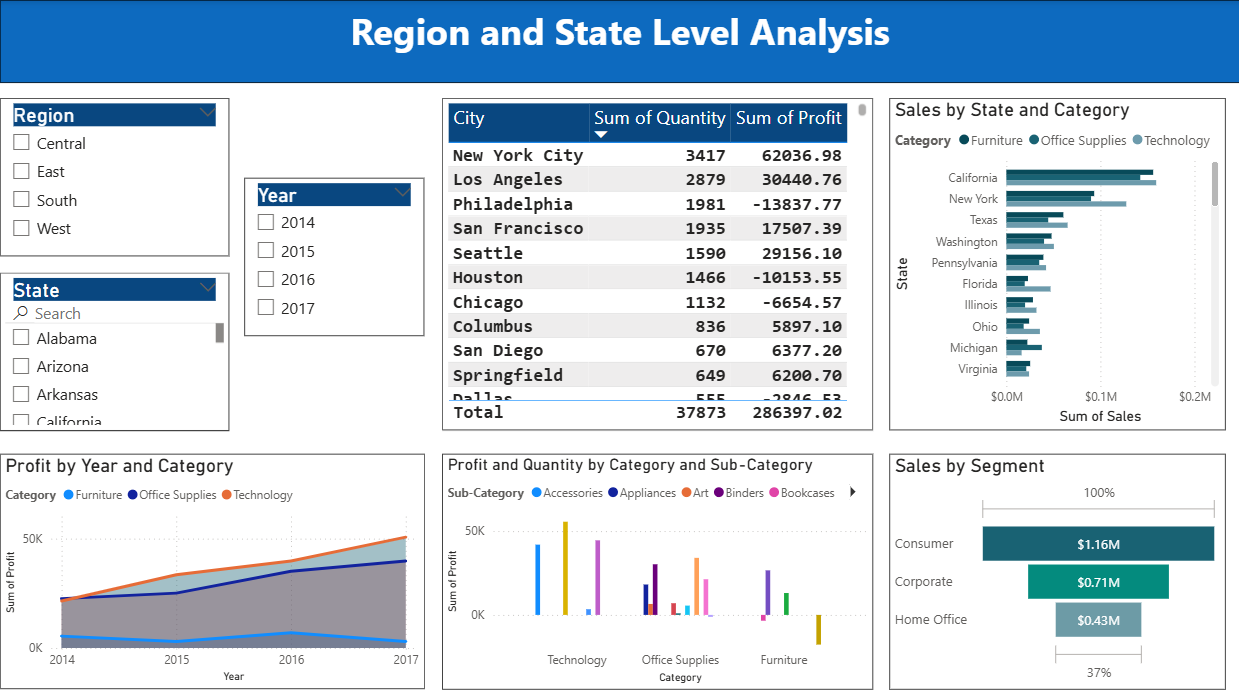

This screenshot's page, from the dashboard's own definition file:
{"tool":"powerbi","page":{"name":"Region and State","canvas":[1280,720],"ordinal":1},"visuals":[{"type":"textbox","box":[10.1,0,1269.9,84.9],"z":0},{"type":"slicer","fields":{"Values":["Orders.State"]},"box":[10.1,279.1,234.6,161.8],"z":1000},{"type":"slicer","fields":{"Values":["Orders.Region"]},"box":[10.1,101.1,234.6,161.8],"z":2000},{"type":"slicer","fields":{"Values":["Orders.Year"]},"box":[260.9,182,184,161.8],"z":3000},{"type":"tableEx","fields":{"Values":["Orders.City","Sum(Orders.Quantity)","Sum(Orders.Profit)"]},"box":[463.1,101.1,440.8,339.7],"z":4000},{"type":"clusteredBarChart","title":"Sales by State and Category","fields":{"Series":["Orders.Category"],"Category":["Orders.State"],"Y":["Sum(Orders.Sales)"]},"box":[920.1,101.1,343.8,339.7],"z":5000},{"type":"areaChart","title":"Profit by Year and Category","fields":{"Series":["Orders.Category"],"Category":["Orders.Year"],"Y":["Sum(Orders.Profit)"]},"box":[10.1,465.1,434.8,240.6],"z":6000},{"type":"lineClusteredColumnComboChart","title":"Profit and Quantity by Category and Sub-Category","fields":{"Category":["Orders.Category"],"Series":["Orders.Sub-Category"],"Y":["Sum(Orders.Profit)"]},"box":[463,465,441,241],"z":7000},{"type":"funnel","title":"Sales by Segment","fields":{"Category":["Orders.Segment"],"Y":["Sum(Orders.Sales)"]},"box":[920,465,344,241],"z":8000}]}

Visuals, with their boxes in screenshot pixels (x1, y1, x2, y2), scaled from the page's 1280x720 canvas onto the 1239x693 screenshot:
textbox: bbox(10, 0, 1238, 82)
slicer - Orders.State: bbox(10, 269, 237, 424)
slicer - Orders.Region: bbox(10, 97, 237, 253)
slicer - Orders.Year: bbox(253, 175, 431, 331)
tableEx - Orders.City x Sum(Orders.Quantity): bbox(448, 97, 875, 424)
"Sales by State and Category" clusteredBarChart: bbox(891, 97, 1223, 424)
"Profit by Year and Category" areaChart: bbox(10, 448, 431, 679)
"Profit and Quantity by Category and Sub-Category" lineClusteredColumnComboChart: bbox(448, 448, 875, 680)
"Sales by Segment" funnel: bbox(891, 448, 1224, 680)
